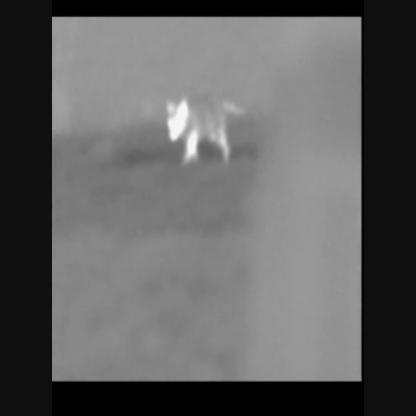rehkitze: (161, 96, 240, 167)
